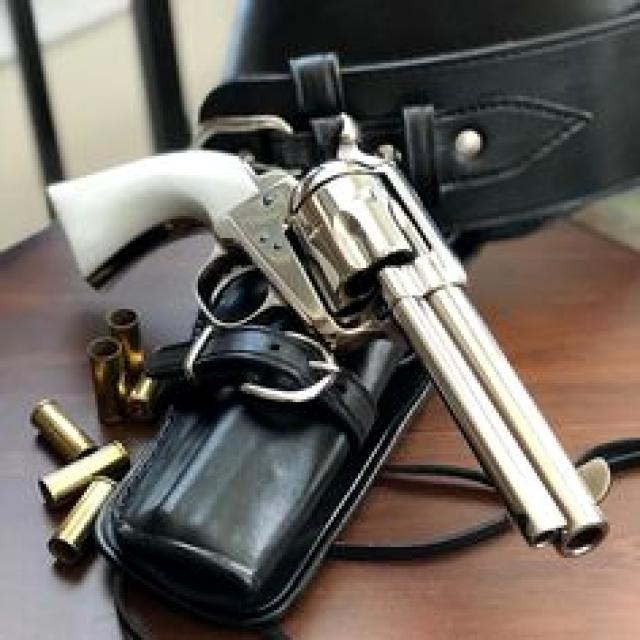revolver: (31, 121, 619, 581)
